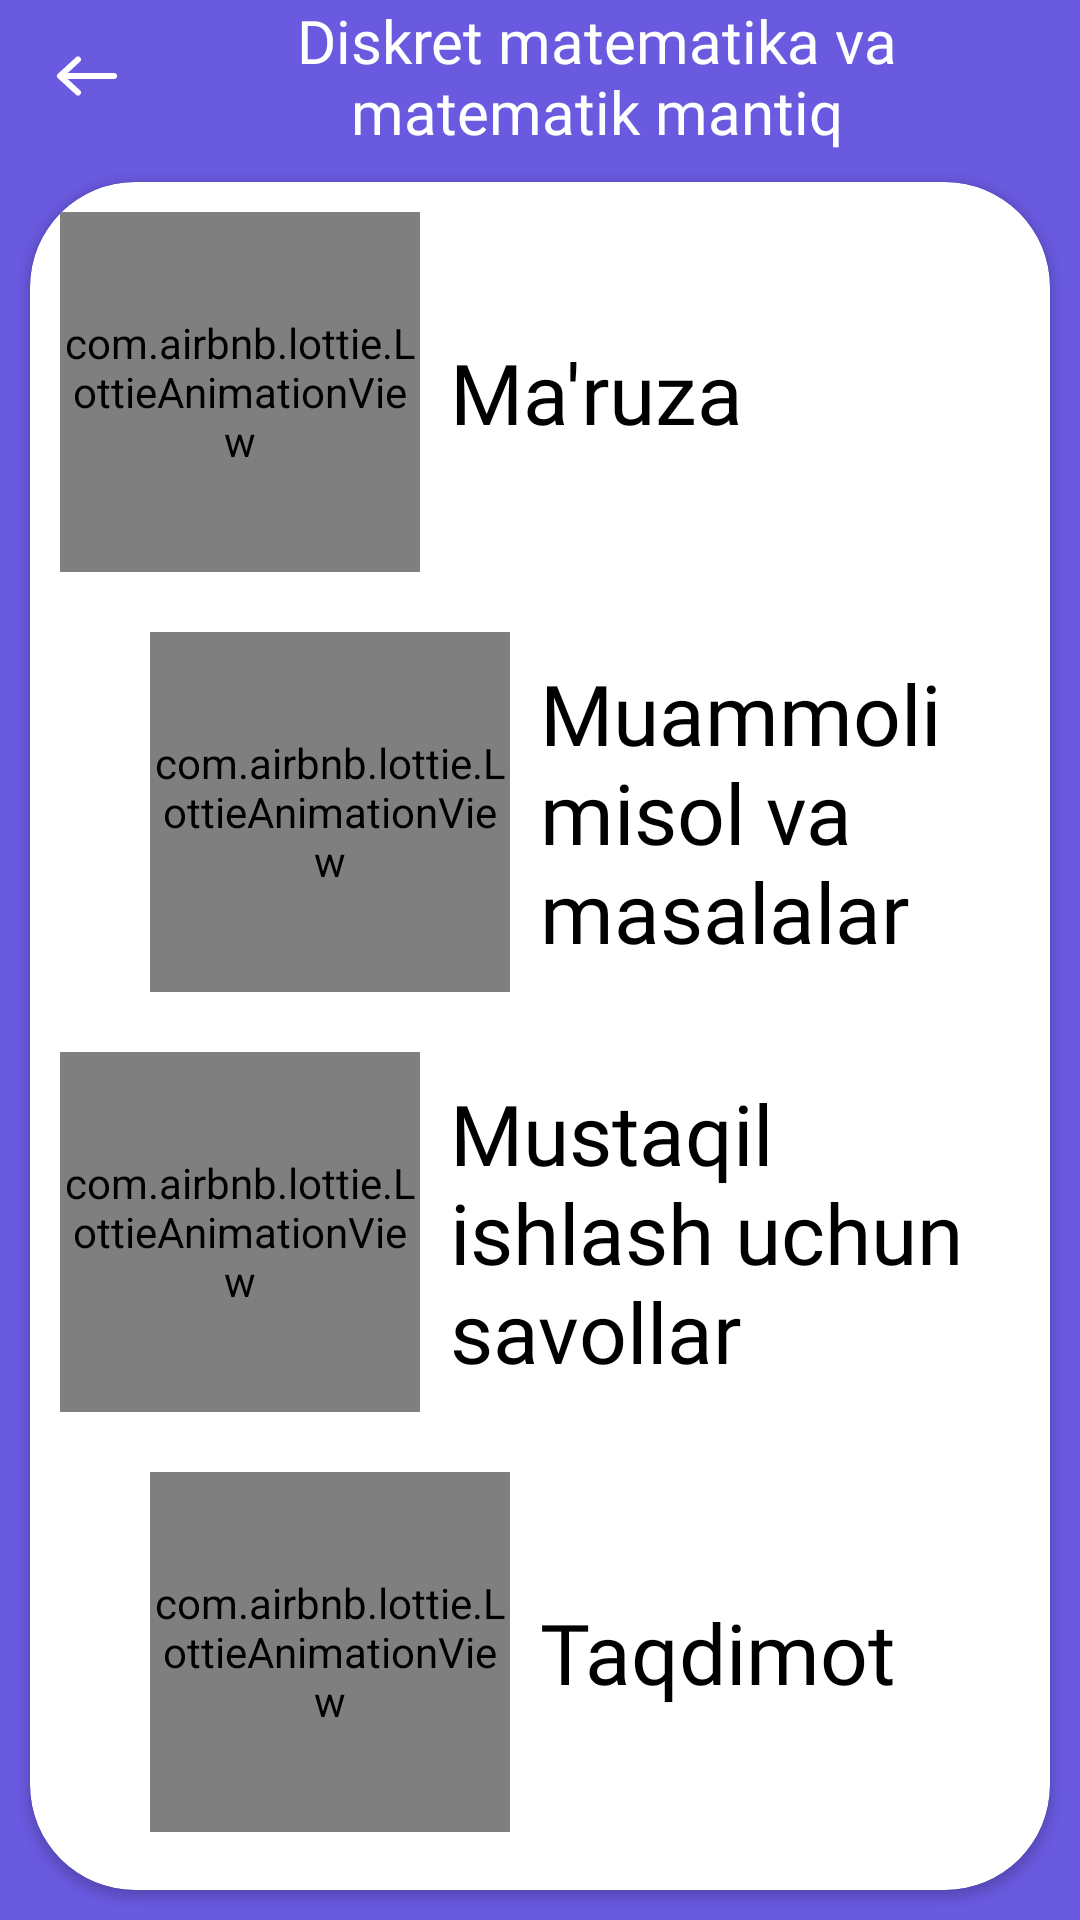

Named icons in this screenshot (1080×1920) and their centers, (x=x, y=y):
back: (x=87, y=76)
